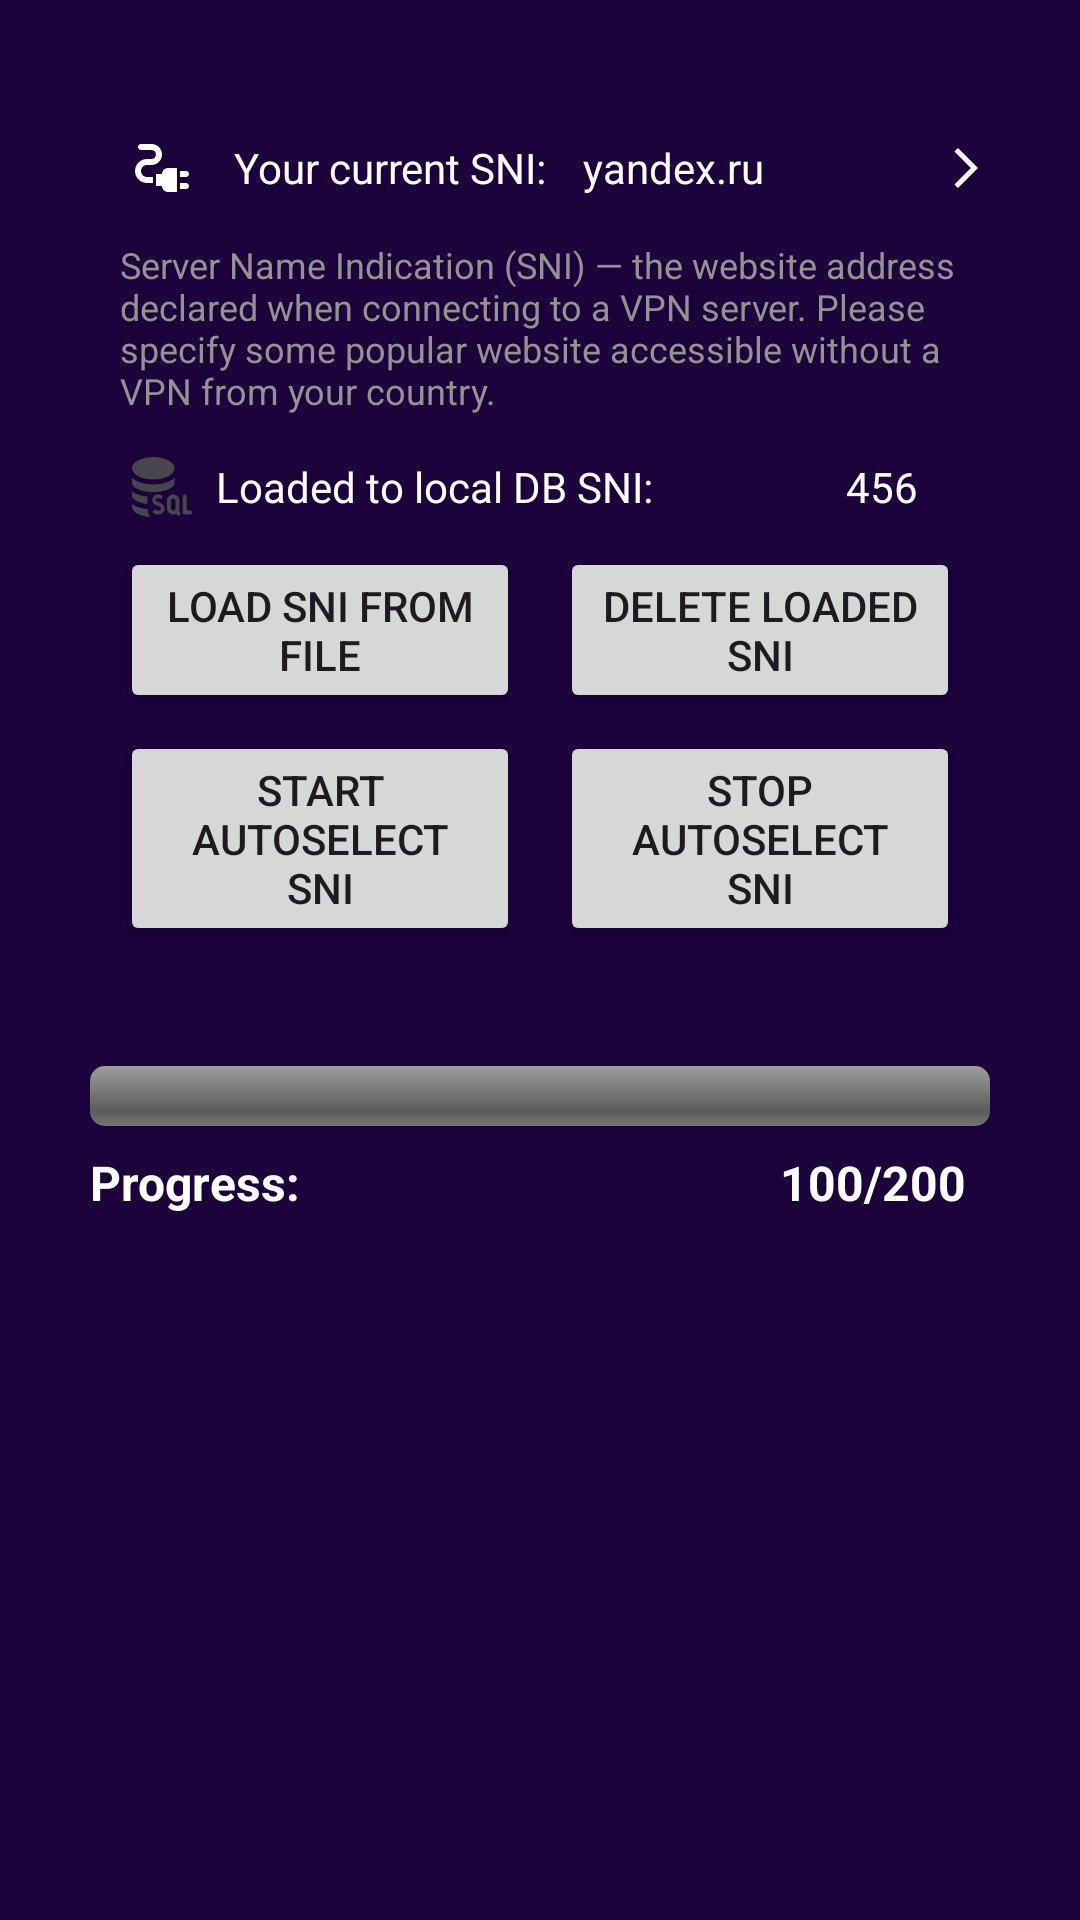

Where to tap for icons on this 1080x1920 app screen, as (x,y):
arrow forward: (966,168)
sql server: (162,487)
